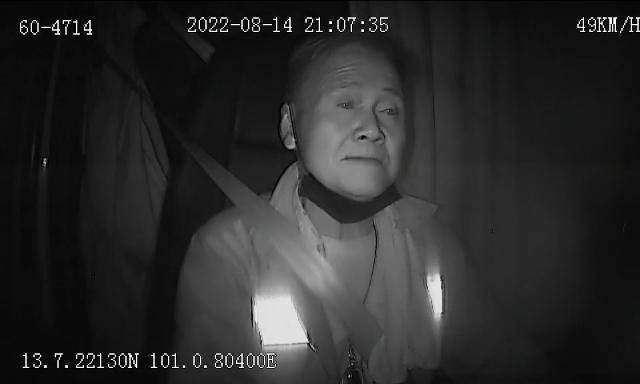SafeDriving: (371, 93, 405, 124), (329, 89, 363, 118)
Seatbelt: (178, 135, 384, 341)
